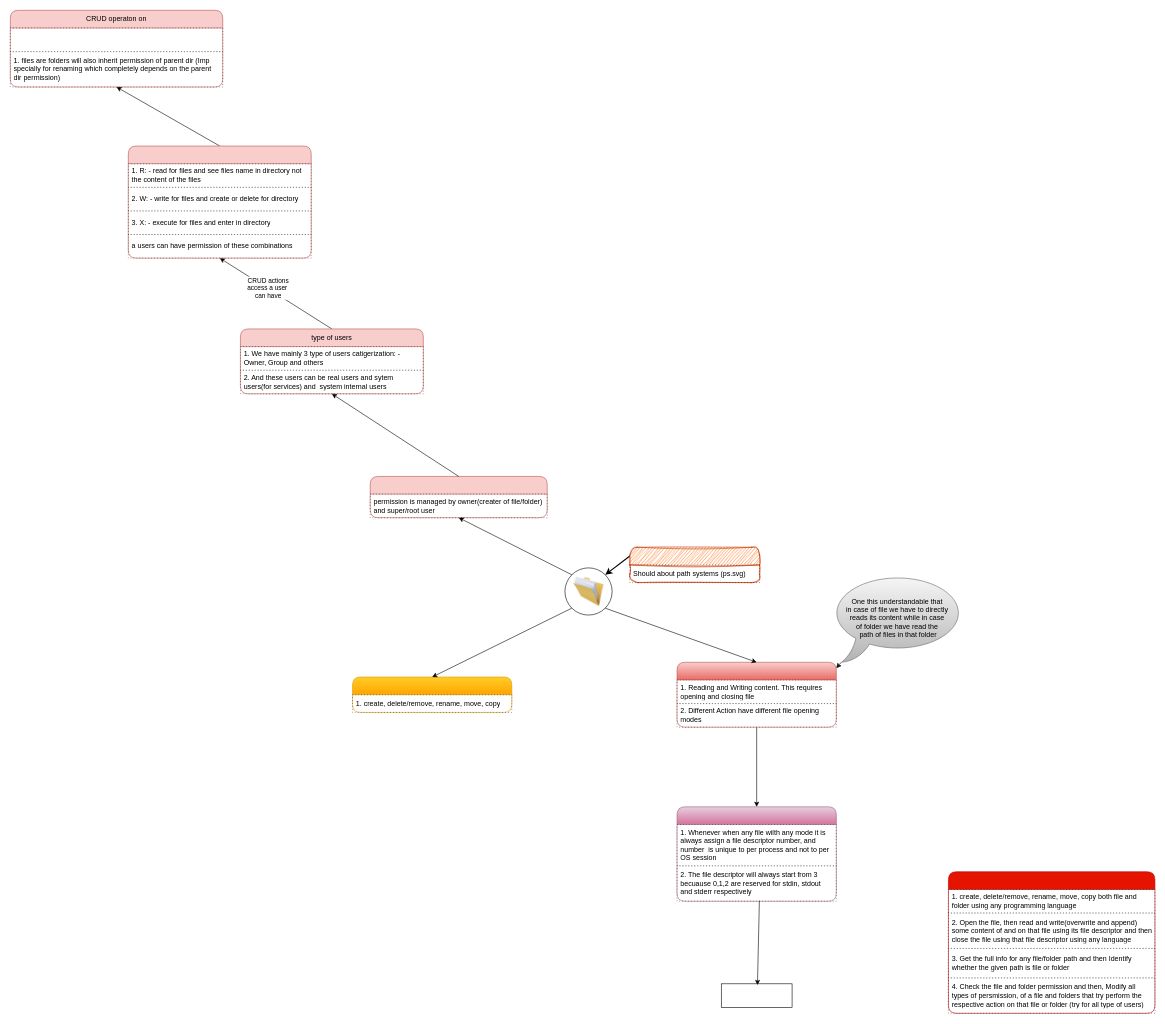
Some shapes in this 1165 by 1024 pixel diagram are drawn without their labels. Each missing label, with the box of its shape:
Acton for files/folders: (352, 676, 512, 712)
Acton in files: (676, 662, 836, 727)
CRUD operations/actions: (128, 145, 311, 258)
fiile/folder permission system: (370, 476, 547, 518)
File descripter: (676, 806, 836, 901)
here the CRUD operations are aplied on files and folder: (10, 27, 223, 52)
Practicals to do: (948, 871, 1155, 1013)
Prerequisites: (629, 547, 760, 583)
should know about on cpu.svg: (721, 983, 792, 1007)
